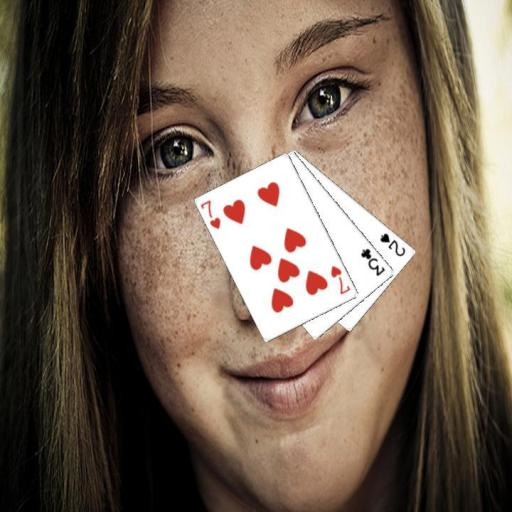2S: (377, 230, 407, 258)
3C: (358, 246, 387, 278)
7H: (198, 197, 223, 230), (328, 263, 352, 297)
